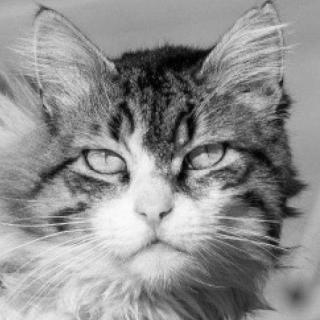cat: (22, 0, 290, 293)
nose: (128, 177, 186, 230)
